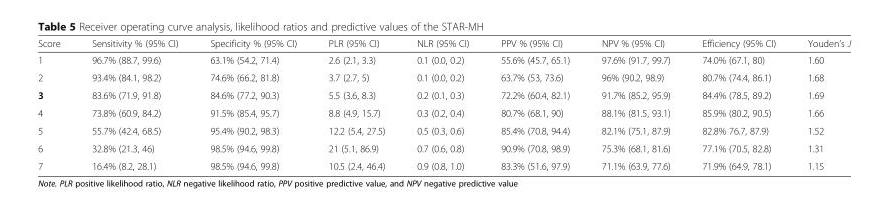table: (38, 37, 851, 171)
table column: (76, 37, 194, 171), (194, 37, 312, 171), (686, 37, 792, 171), (585, 37, 686, 171), (485, 37, 585, 171), (312, 37, 401, 171), (401, 37, 485, 171), (792, 37, 851, 171), (38, 37, 76, 171)
table column header: (38, 37, 851, 51)
table row: (38, 85, 851, 103), (38, 103, 851, 121), (38, 121, 851, 139), (38, 51, 851, 68), (38, 68, 851, 85), (38, 139, 851, 156), (38, 156, 851, 171), (38, 37, 851, 51)
